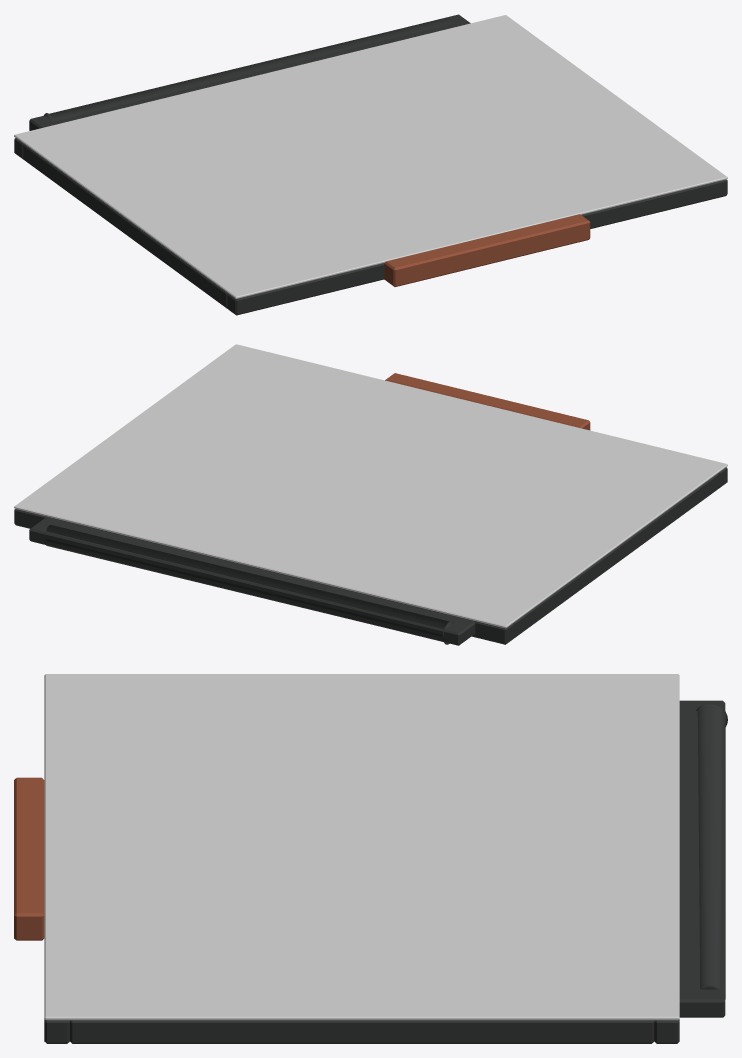
The model's file is dual_compartment_bin_small_lid.glb.
3 renders of one model, top to bottom at view 1: azimuth 30°, elevation 25°; view 2: azimuth 150°, elevation 25°; view 3: azimuth 270°, elevation 25°, orthographic. The views are drawn at different scales.
Visible parts, largest first — view 1: dual_compartment_bin_small_lid; view 2: dual_compartment_bin_small_lid; view 3: dual_compartment_bin_small_lid.
Part boxes in pixels (x1=…): dual_compartment_bin_small_lid: x1=14, y1=14, x2=727, y2=315; dual_compartment_bin_small_lid: x1=14, y1=344, x2=727, y2=645; dual_compartment_bin_small_lid: x1=14, y1=674, x2=727, y2=1043.
Size of the model in its own units: 0.32 by 0.014 by 0.281.
